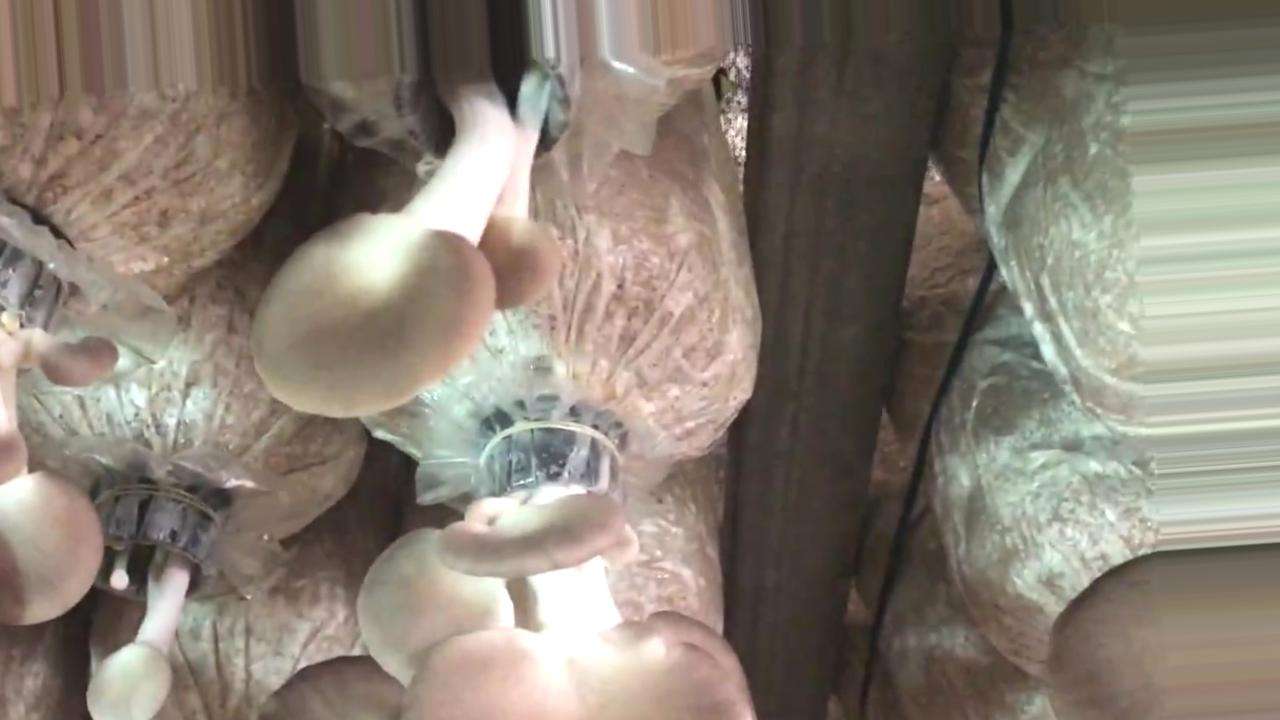nam: (267, 422, 750, 720), (249, 63, 580, 422), (1, 246, 116, 624), (1048, 551, 1277, 719), (87, 486, 223, 719)
